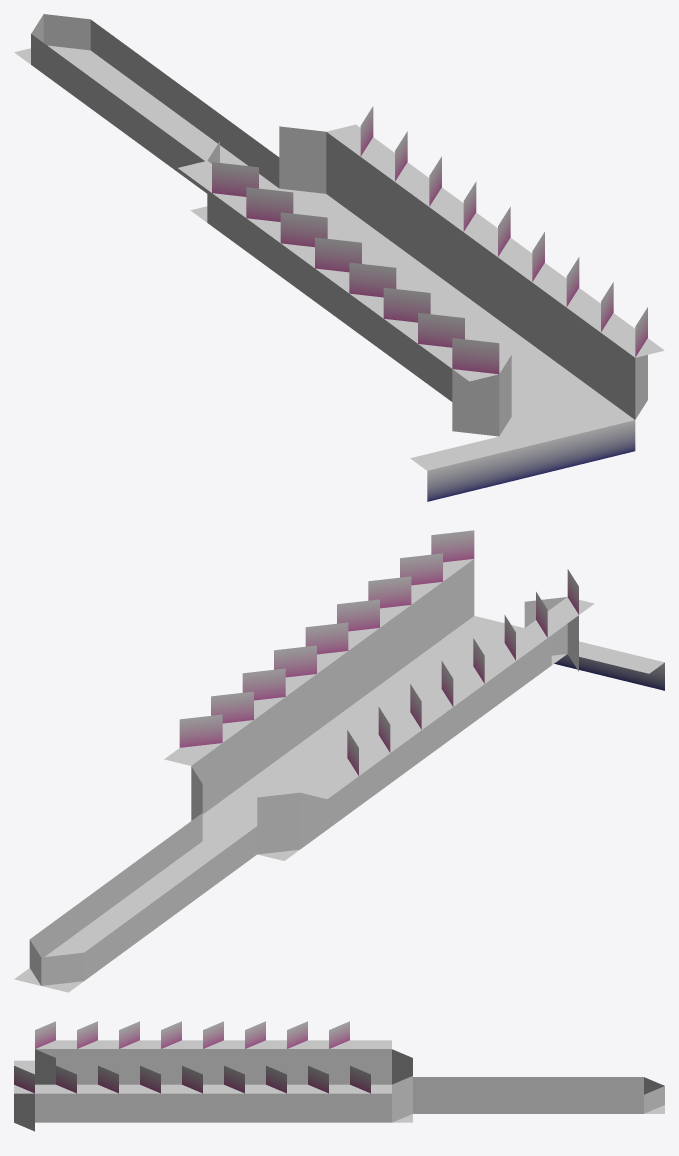
Rendered from evencare4.obj.
The picture shows the model from 3 angles, top to bottom: view 1: azimuth 30°, elevation 25°; view 2: azimuth 150°, elevation 25°; view 3: azimuth 270°, elevation 25°; orthographic projection. The views are drawn at different scales.
Visible parts, largest first — view 1: Plane; view 2: Plane; view 3: Plane.
Boxes of the visible parts, x1,y1,x2,y2 form: Plane: (14, 14, 664, 501); Plane: (14, 530, 664, 992); Plane: (14, 1021, 664, 1131).
Bounding box in the file's own units: 8 × 4 × 31.
